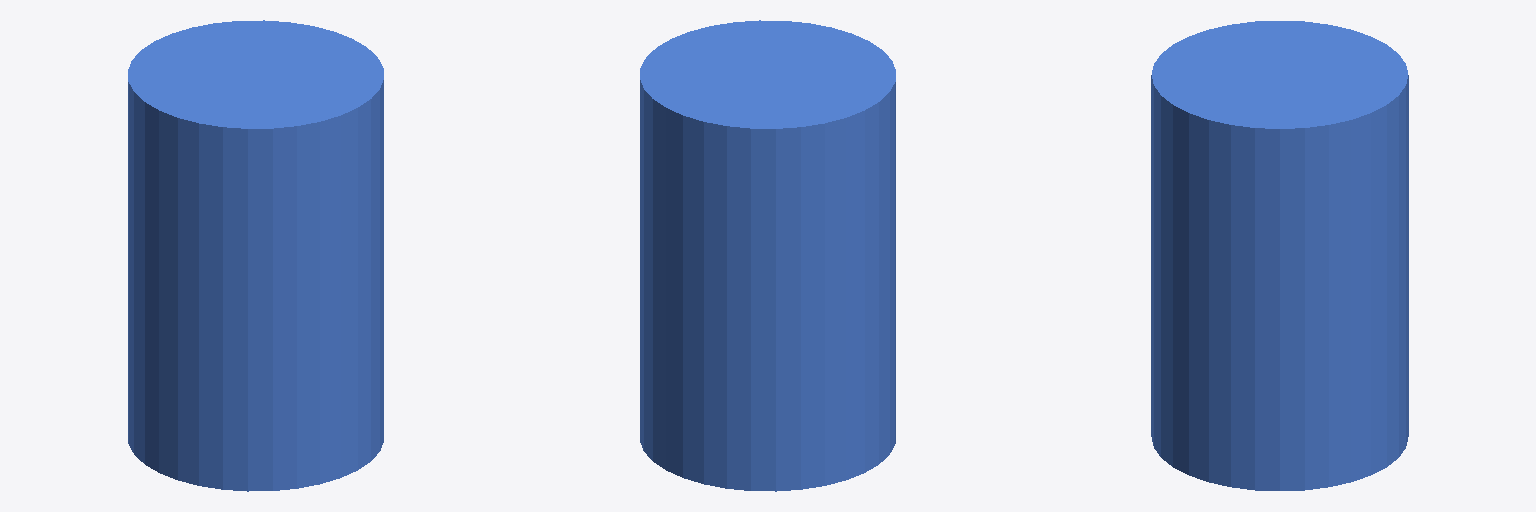
URDF robot description (fr3_link5_1_robot):
<?xml version="0.0" ?>
<robot name="fr3_link5_1_robot">
  <link name="base_link">
    <inertial>
      <origin rpy="0 0 0" xyz="0 0 0"/>
       <mass value=".1"/>
       <inertia ixx="1" ixy="0" ixz="0" iyy="1" iyz="0" izz="1"/>
    </inertial>
    
    <visual>
      <origin rpy="0 0 0" xyz="0 0 0.00"/>
      <geometry>
        <cylinder length="0.28" radius="0.09"/>
      </geometry>
      <material name="cornflowerblue">
        <color rgba="0.3921 0.5843 0.9294 0.8"/>
      </material>
    </visual>
  </link>
</robot>

--- Facts derived from the render (not from the file) ---
Views: 3 orthographic renders of the robot side by side, from view 1: azimuth 30°, elevation 25°; view 2: azimuth 150°, elevation 25°; view 3: azimuth 270°, elevation 25°.
Model fr3_link5_1_robot with 1 links and 0 joints (none), rooted at base_link, posed every joint at zero.
Visible links, largest first — view 1: base_link; view 2: base_link; view 3: base_link.
Boxes of the visible links, x1,y1,x2,y2 form: base_link: (128, 20, 383, 491); base_link: (640, 20, 895, 491); base_link: (1151, 21, 1408, 490).
Size in the robot's own frame: 0.18 by 0.18 by 0.28 metres.
Geometry: primitives only (box / cylinder / sphere), no mesh files.